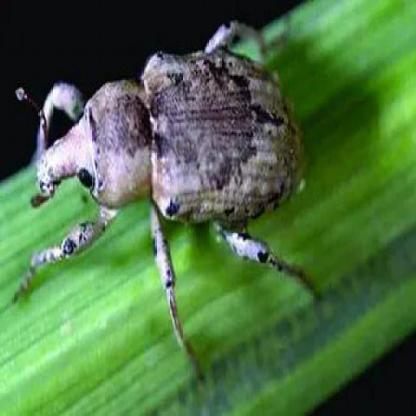rice-bug: (18, 19, 320, 382)
